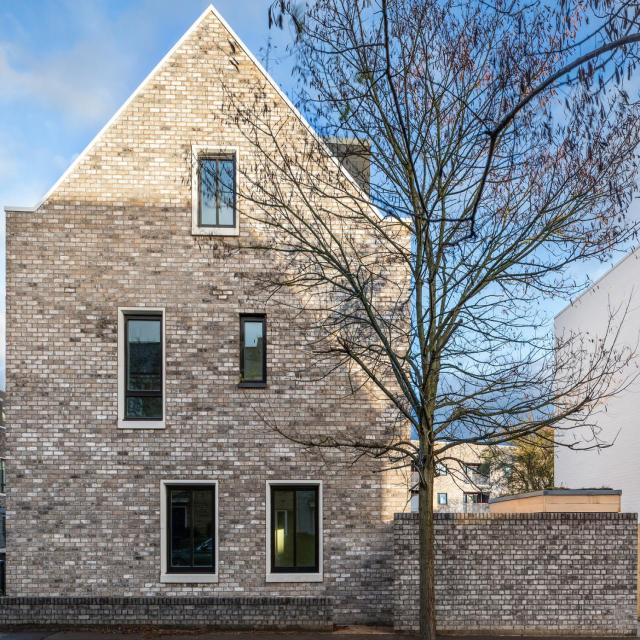wall: (5, 2, 638, 632)
windows: (270, 481, 318, 571), (126, 313, 162, 416), (172, 484, 213, 565), (200, 156, 235, 222), (241, 318, 263, 378)
